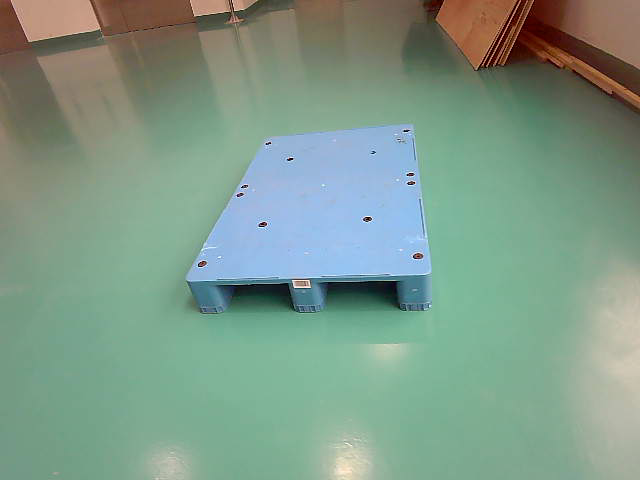block: (188, 278, 228, 316), (287, 277, 327, 315), (401, 273, 434, 312)
front: (184, 273, 431, 316)
hole pallet: (319, 283, 401, 308), (220, 285, 292, 310)
